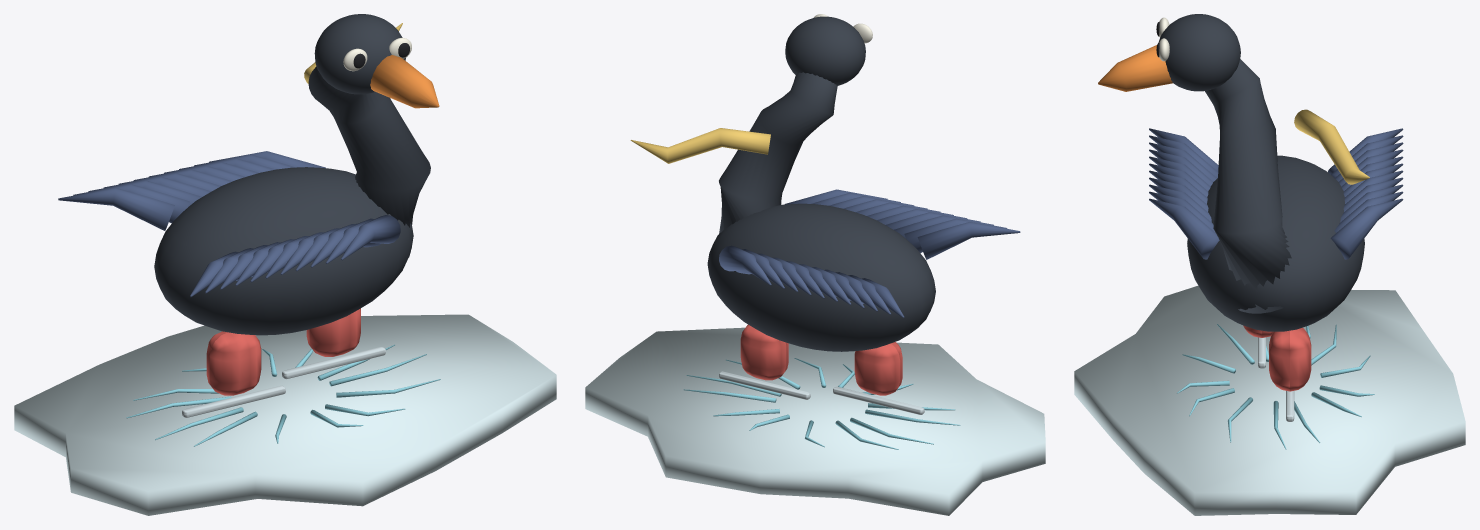
Rendered from P07_Black_Swan_Ice_Rink.glb.
The picture shows the model from 3 angles, left to right: view 1: azimuth 30°, elevation 25°; view 2: azimuth 150°, elevation 25°; view 3: azimuth 270°, elevation 25°; orthographic projection. The views are drawn at different scales.
Parts seen in each view (by area): view 1: P07 actual asymmetric jagged ice floating rink, P07 full plush black swan realistic body, P07_SWAN_NECK_ACTOR | Black swan velvet feather iridescent b, P07_SWAN_WINGS_ACTOR | Black swan individual indigo silk win, P07_SKATES_ACTOR | Sport silly swan hat cherry red, P07_ICE_RINK_STATIC | Icy deep blue edge cracks, P07 authentic tapered amber swan beak, P07_SKATES_ACTOR | Polished figure-skate bright chrome blade; view 2: P07 actual asymmetric jagged ice floating rink, P07 full plush black swan realistic body, P07_SWAN_NECK_ACTOR | Black swan velvet feather iridescent b, P07_SWAN_WINGS_ACTOR | Black swan individual indigo silk win, P07_SKATES_ACTOR | Sport silly swan hat cherry red, P07_ICE_RINK_STATIC | Icy deep blue edge cracks, P07 fluttering gold prize scarf, P07_SKATES_ACTOR | Polished figure-skate bright chrome blade; view 3: P07 actual asymmetric jagged ice floating rink, P07_SWAN_NECK_ACTOR | Black swan velvet feather iridescent b, P07 full plush black swan realistic body, P07_SWAN_WINGS_ACTOR | Black swan individual indigo silk win, P07_SKATES_ACTOR | Sport silly swan hat cherry red, P07_ICE_RINK_STATIC | Icy deep blue edge cracks, P07 authentic tapered amber swan beak, P07 fluttering gold prize scarf, P07_SKATES_ACTOR | Polished figure-skate bright chrome blade.
Boxes of the visible parts, x1,y1,x2,y2 form: P07 actual asymmetric jagged ice floating rink: (14, 314, 556, 515); P07 full plush black swan realistic body: (154, 167, 413, 335); P07_SWAN_NECK_ACTOR | Black swan velvet feather iridescent b: (308, 14, 430, 257); P07_SWAN_WINGS_ACTOR | Black swan individual indigo silk win: (58, 151, 400, 296); P07_SKATES_ACTOR | Sport silly swan hat cherry red: (206, 308, 360, 395); P07_ICE_RINK_STATIC | Icy deep blue edge cracks: (126, 344, 440, 446); P07 authentic tapered amber swan beak: (370, 55, 439, 108); P07_SKATES_ACTOR | Polished figure-skate bright chrome blade: (182, 347, 385, 417); P07 actual asymmetric jagged ice floating rink: (585, 327, 1045, 515); P07 full plush black swan realistic body: (707, 203, 935, 351); P07_SWAN_NECK_ACTOR | Black swan velvet feather iridescent b: (719, 16, 865, 233); P07_SWAN_WINGS_ACTOR | Black swan individual indigo silk win: (719, 189, 1020, 318); P07_SKATES_ACTOR | Sport silly swan hat cherry red: (740, 324, 902, 395); P07_ICE_RINK_STATIC | Icy deep blue edge cracks: (683, 358, 960, 449); P07 fluttering gold prize scarf: (630, 128, 770, 163); P07_SKATES_ACTOR | Polished figure-skate bright chrome blade: (719, 371, 924, 414); P07 actual asymmetric jagged ice floating rink: (1074, 285, 1465, 515); P07_SWAN_NECK_ACTOR | Black swan velvet feather iridescent b: (1158, 14, 1291, 313); P07 full plush black swan realistic body: (1187, 155, 1364, 331); P07_SWAN_WINGS_ACTOR | Black swan individual indigo silk win: (1149, 128, 1403, 259); P07_SKATES_ACTOR | Sport silly swan hat cherry red: (1243, 325, 1311, 391); P07_ICE_RINK_STATIC | Icy deep blue edge cracks: (1177, 324, 1374, 449); P07 authentic tapered amber swan beak: (1098, 45, 1172, 91); P07 fluttering gold prize scarf: (1294, 109, 1369, 184); P07_SKATES_ACTOR | Polished figure-skate bright chrome blade: (1258, 337, 1294, 421).
Bounding box in the file's own units: 2.18 × 1.92 × 1.67.
